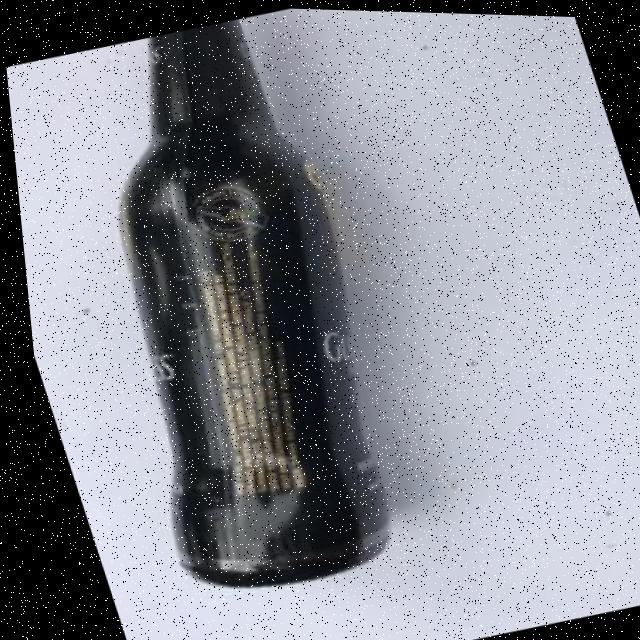glass: (0, 3, 441, 618)
